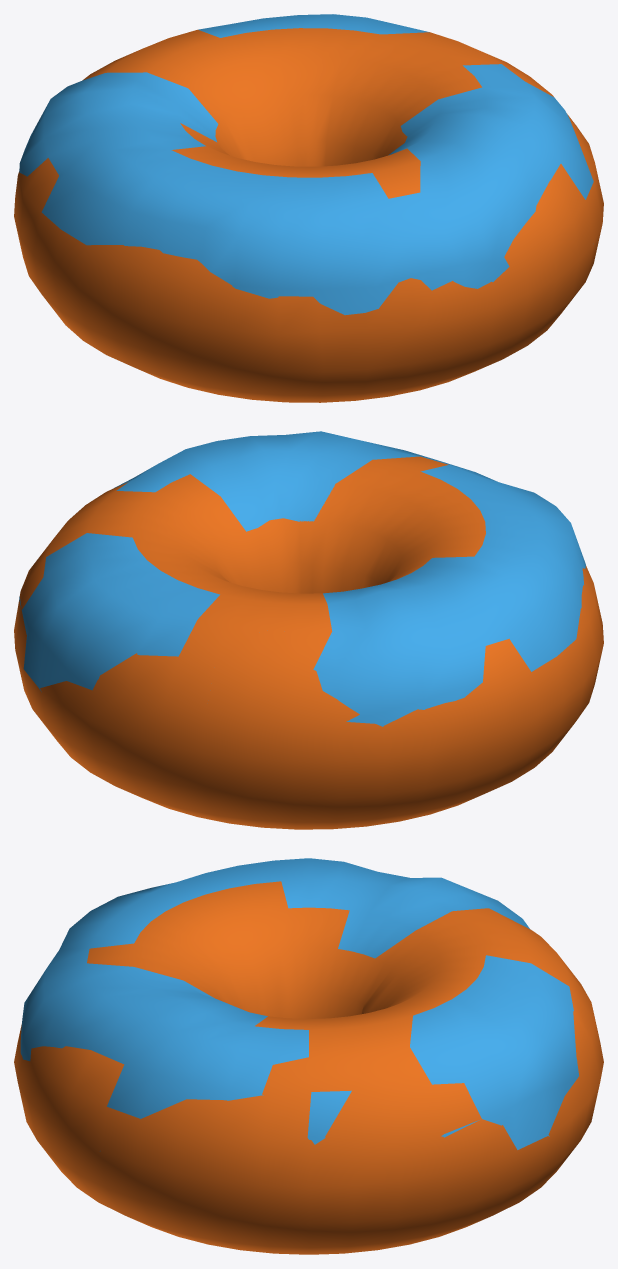
The model's file is donut.glb.
3 renders of one model, top to bottom at view 1: azimuth 30°, elevation 25°; view 2: azimuth 150°, elevation 25°; view 3: azimuth 270°, elevation 25°, orthographic.
Visible parts, largest first — view 1: Donut, Icing; view 2: Donut, Icing; view 3: Donut, Icing.
Part boxes in pixels (x1,y1,x2,y2): Donut: (14,28,603,402); Icing: (19,14,593,315); Donut: (14,456,603,829); Icing: (19,431,585,726); Donut: (14,881,603,1254); Icing: (20,858,579,1151).
Size of the model in its own units: 3 by 1.24 by 3.
